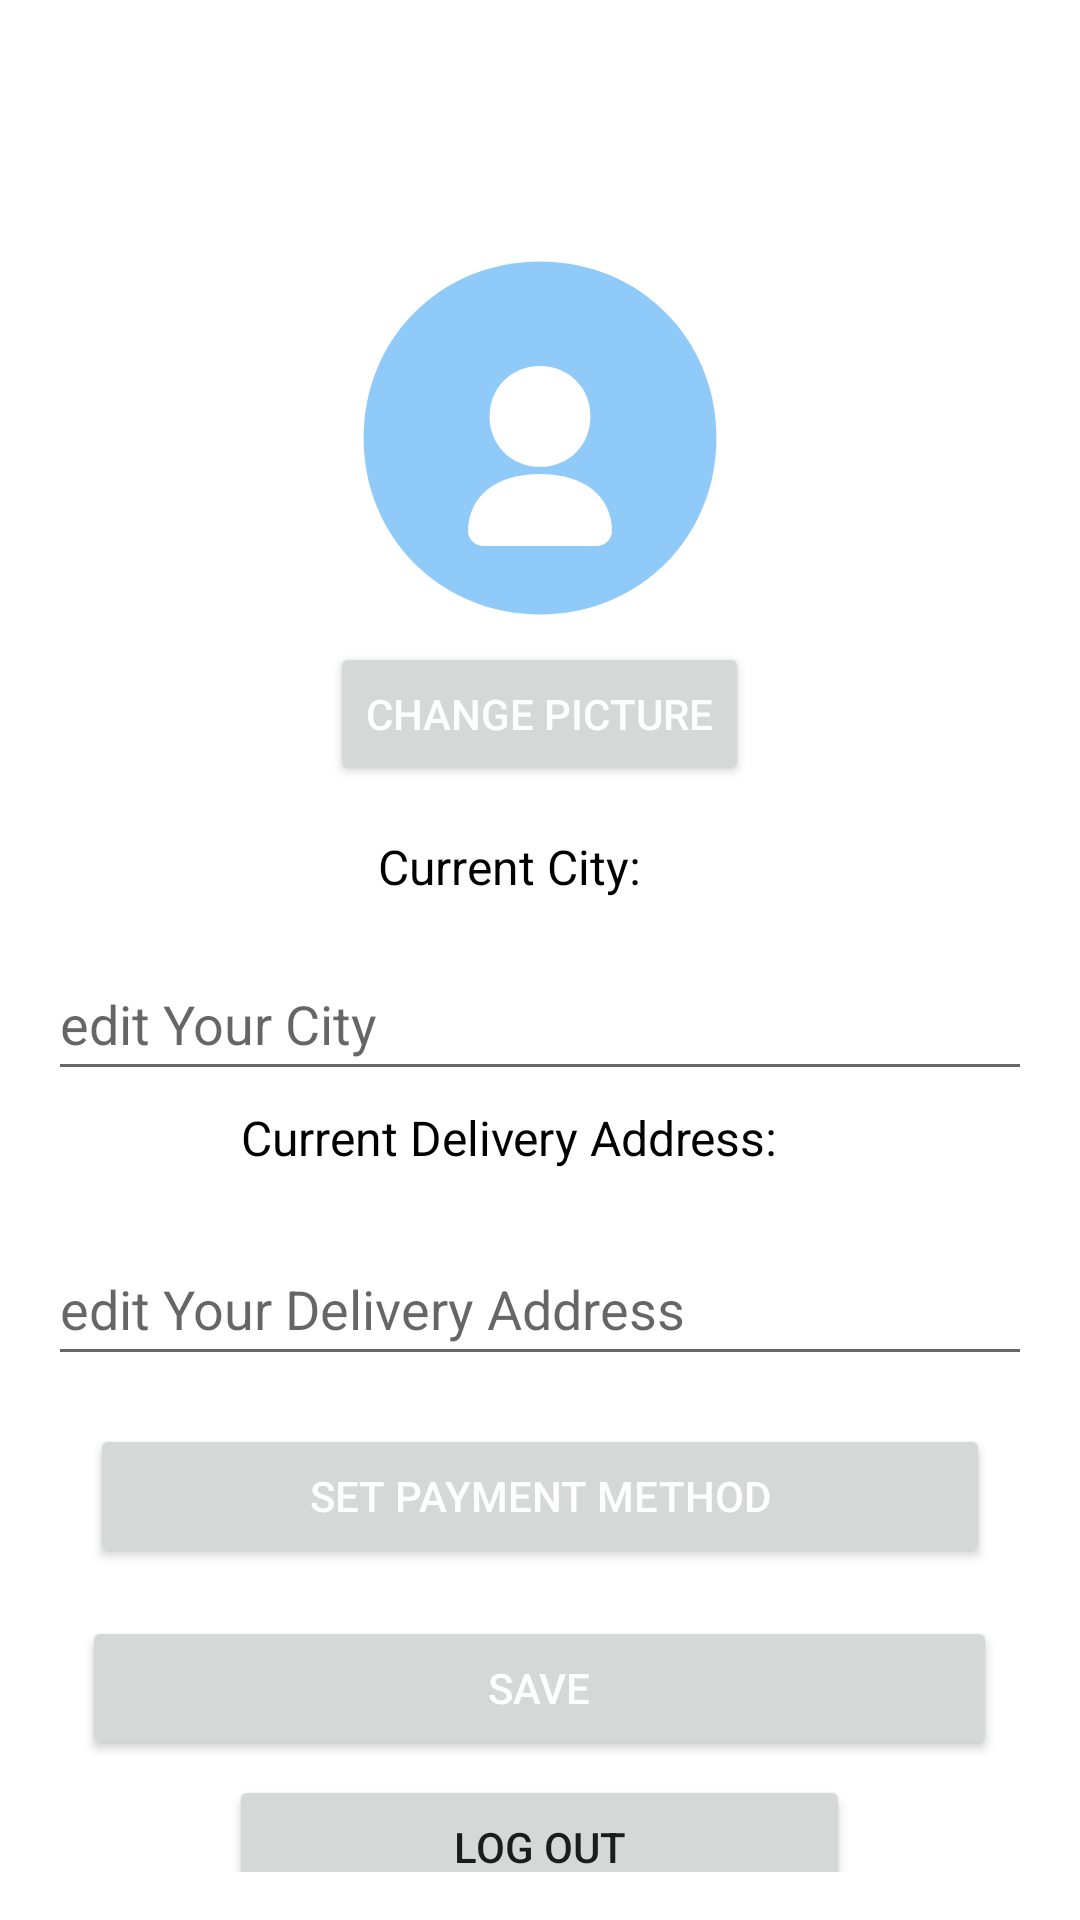

Screen size 1080 × 1920. Icon name, then its center in pixels as (x,y):
Customer Picture: (540,438)
